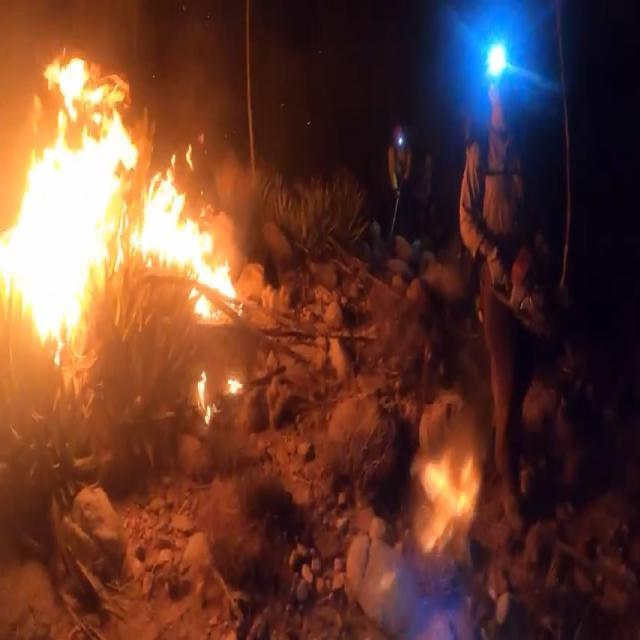Fire: (0, 30, 241, 420)
